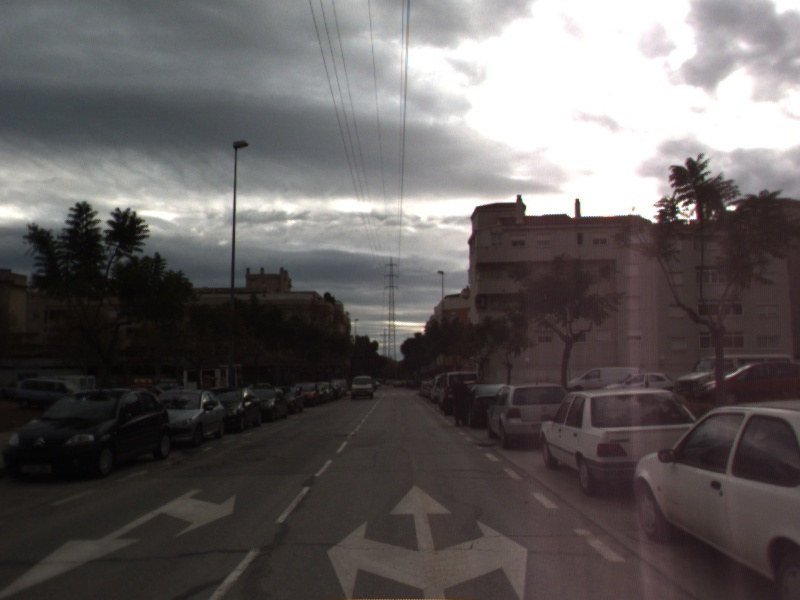STRAIGHT_LEFT_RIGHT: (324, 482, 530, 600)
